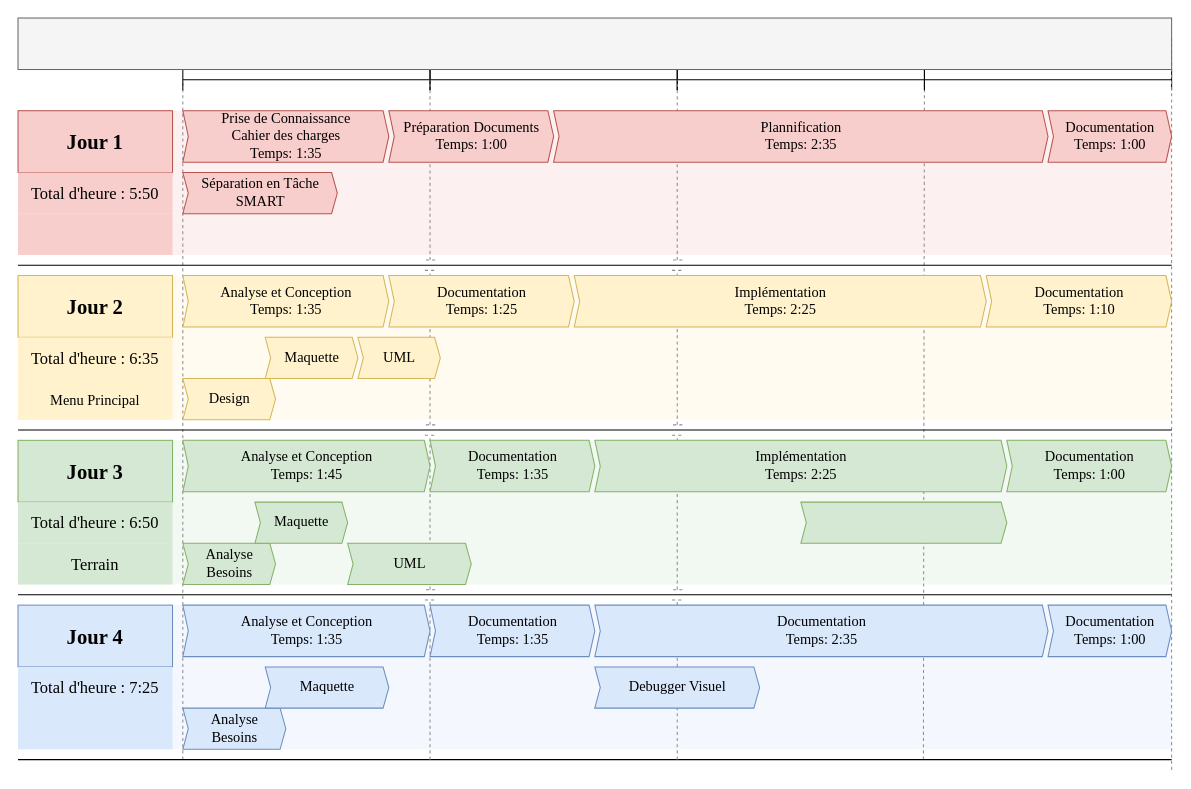
This 1191x789 diagram has some shape labels left out. Here are the shapes that lost their labels. From the top down, the centre of each, then its label:
At [594,43]: "Semaine 1 (02.05.2022 - 06.05.2022): Environnement".
At [95,233]: "Plannification".
At [903,522]: "Test Unitaire".
At [95,728]: "Obstacles et objectifs".
